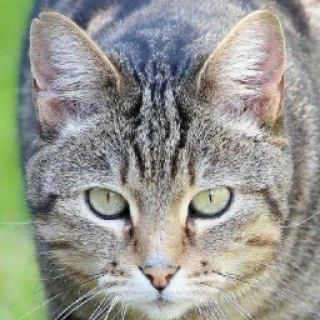cat: (31, 10, 290, 312)
nose: (134, 237, 189, 295)
